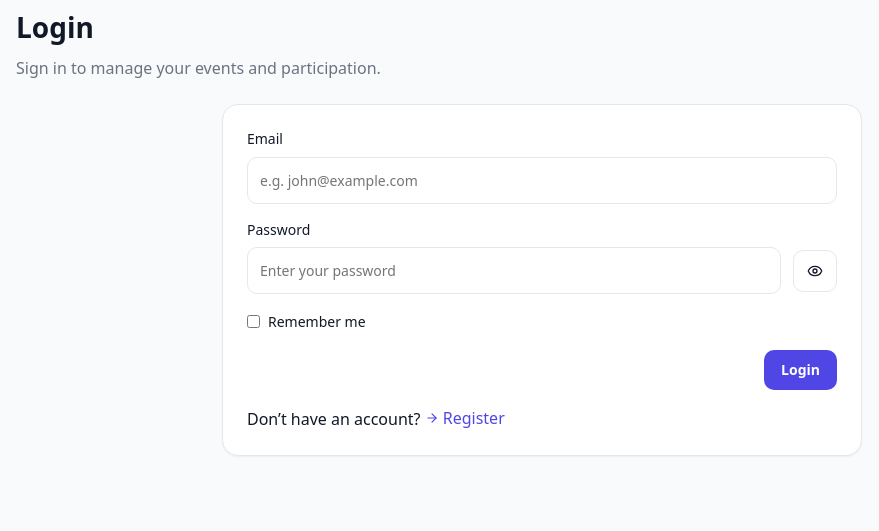
Test: LoginPage › clears field error when user edits input
Click the button "Login" at (801, 370), box [764,350,837,390]
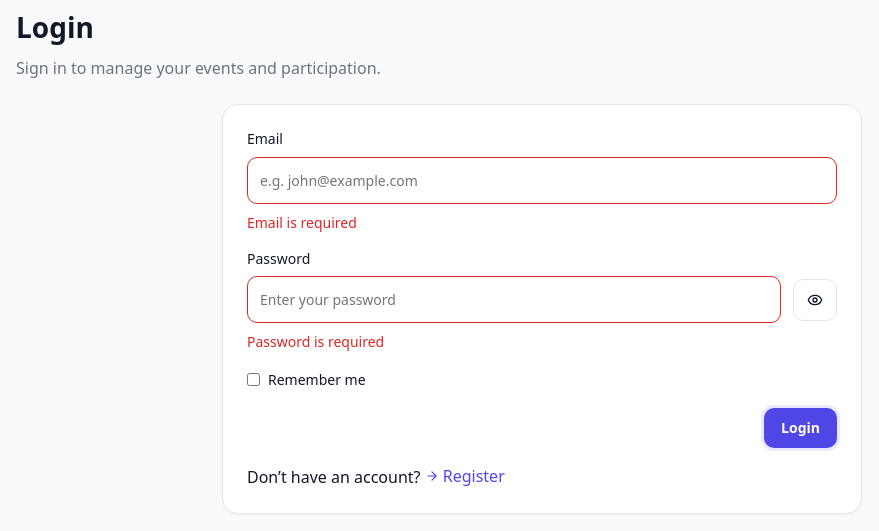
Check: the text "Email is required" is shown, box [247,213,357,232]
Type "test@test.com" into the field labelled "Email" at (542, 180), box [247,157,837,204]
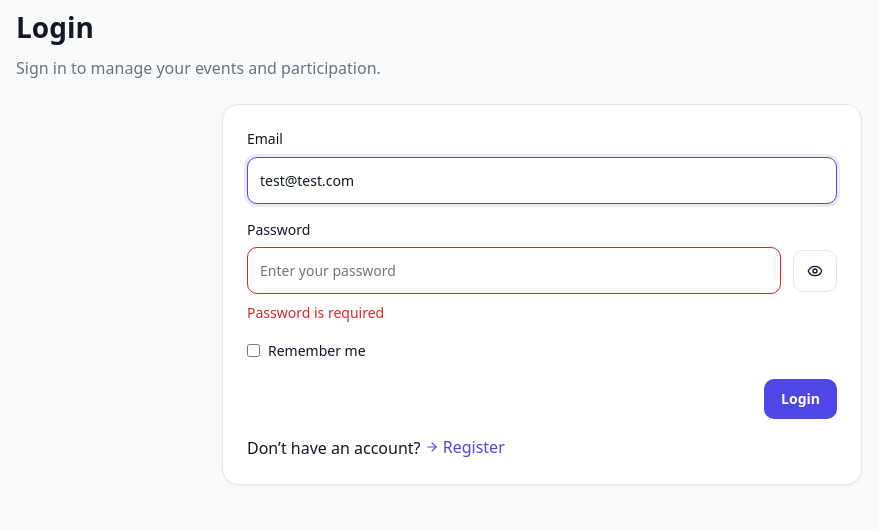
Check: the text "Email is required" is gone
